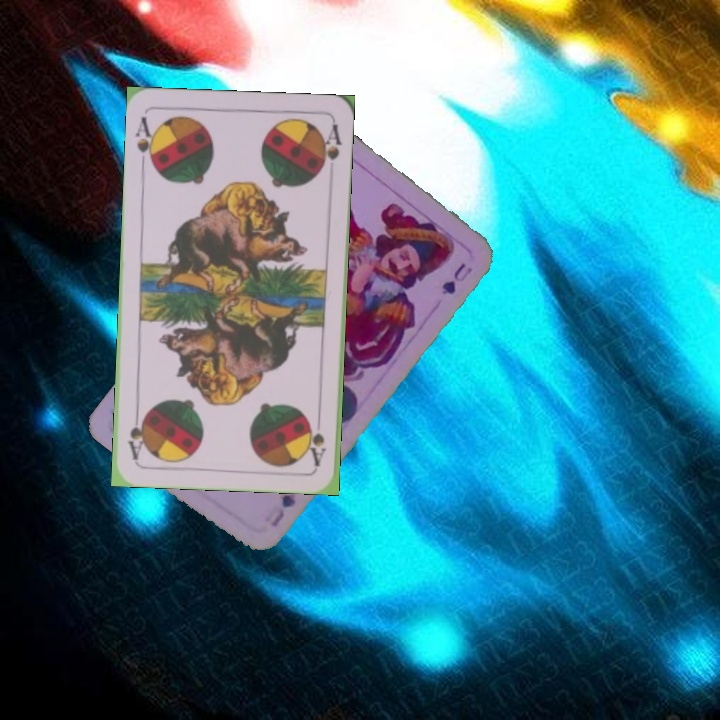GU: (266, 489, 298, 530)
SA: (132, 113, 159, 171), (305, 409, 328, 468)
